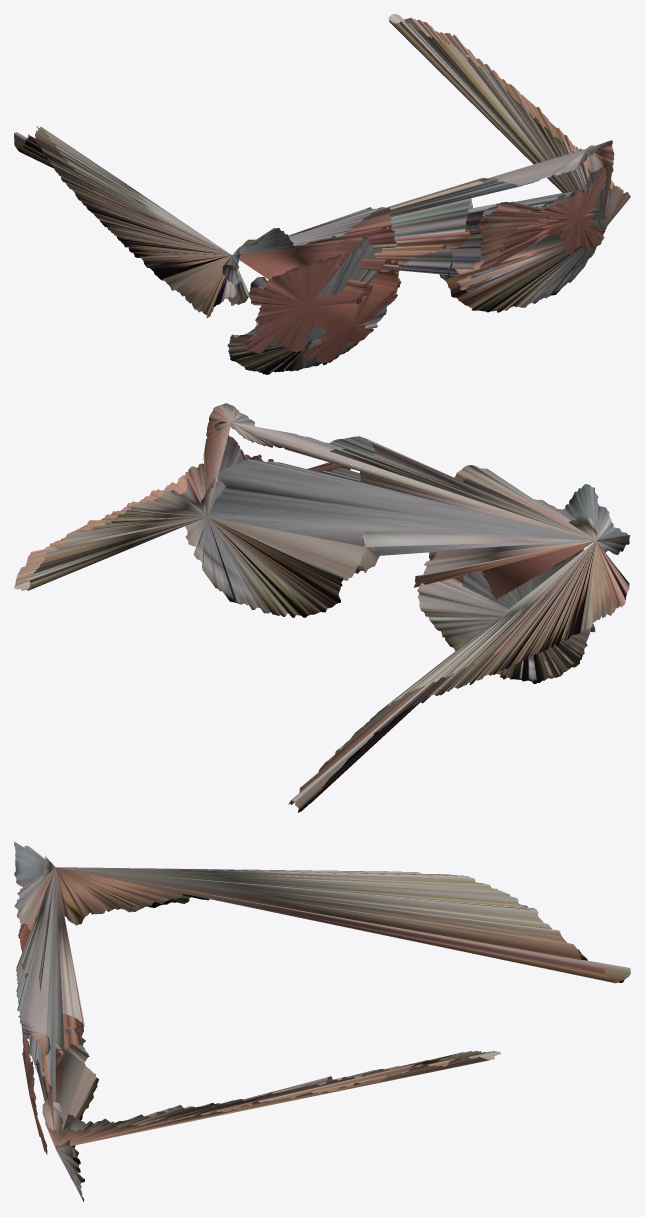
The model's file is scan_align.obj.
3 views of the same model, one above another, from view 1: azimuth 30°, elevation 25°; view 2: azimuth 150°, elevation 25°; view 3: azimuth 270°, elevation 25° (orthographic). The views are drawn at different scales.
Bounding box in the file's own units: 0.1263 × 0.0498 × 0.1383.
Materials: 1 (1 with a texture image).
